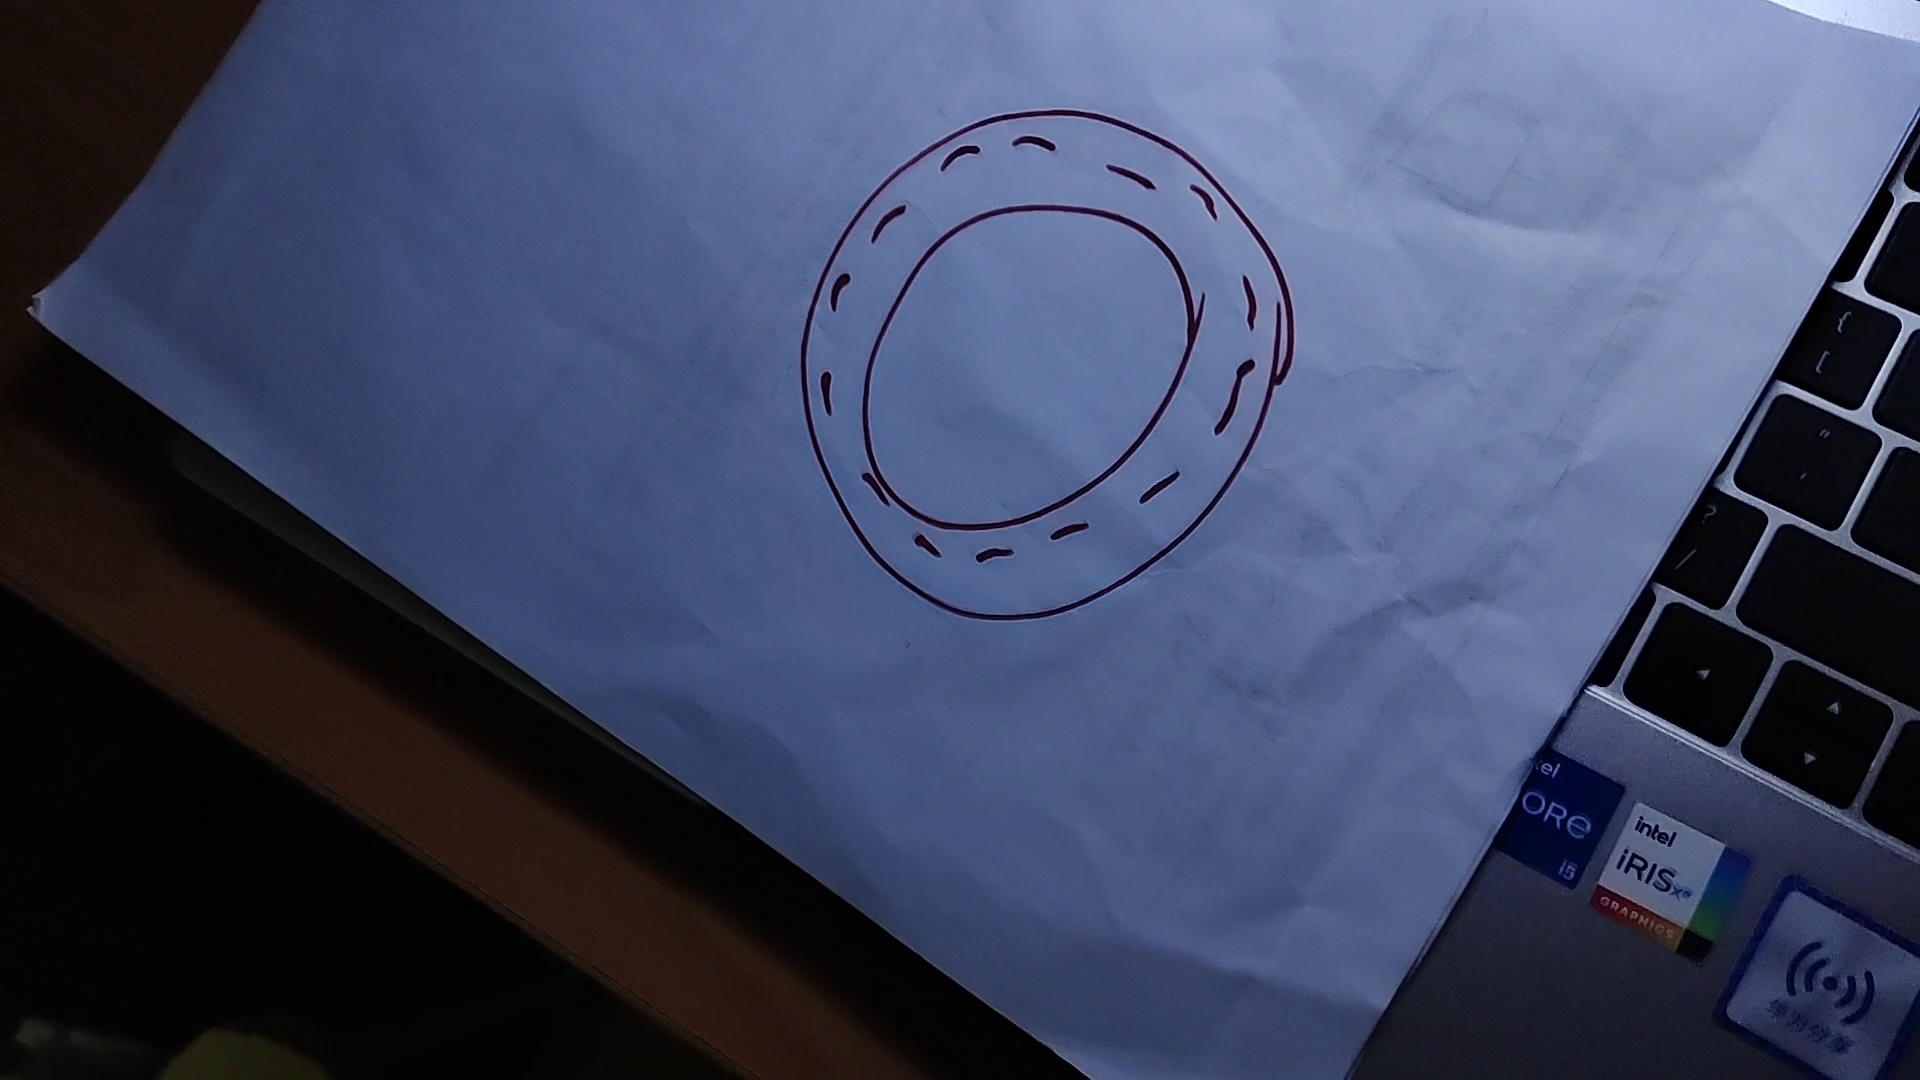circle: (803, 112, 1298, 621)
